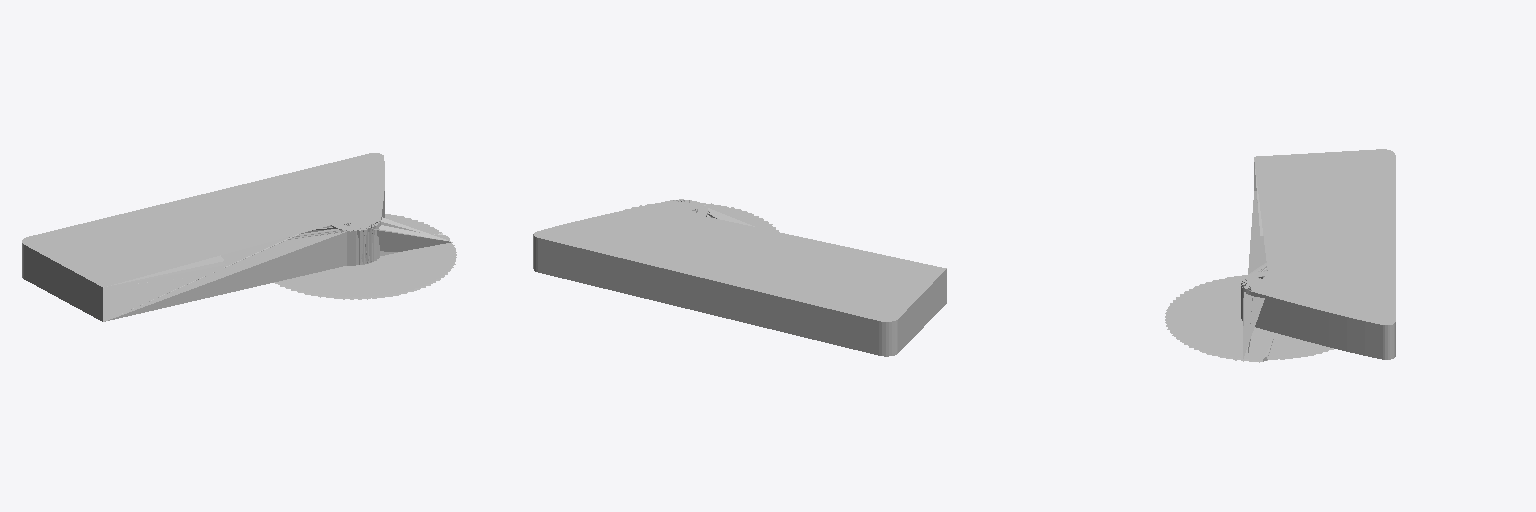
The model's file is VHS.Cassette.obj.
3 renders of one model, left to right at view 1: azimuth 30°, elevation 25°; view 2: azimuth 150°, elevation 25°; view 3: azimuth 270°, elevation 25°, orthographic.
Visible parts, largest first — view 1: Line01, Rectangle08, Rectangle07, Star02, Rectangle009, Line022, Star01, Rectangle02, Shape01; view 2: Line022, Rectangle009, Rectangle08, Line01, Rectangle07, Star02, Rectangle02, Shape01, Star01; view 3: Rectangle08, Rectangle07, Line022, Line01, Star02, Rectangle009, Star01, Rectangle02, Shape01.
Boxes of the visible parts, x1,y1,x2,y2 form: Line01: [22, 153, 384, 286]; Rectangle08: [22, 153, 384, 321]; Rectangle07: [23, 153, 450, 317]; Star02: [23, 153, 456, 299]; Rectangle009: [27, 153, 384, 286]; Line022: [22, 154, 384, 321]; Star01: [103, 223, 456, 297]; Rectangle02: [23, 153, 384, 321]; Shape01: [22, 155, 383, 285]; Line022: [533, 200, 946, 356]; Rectangle009: [536, 200, 945, 321]; Rectangle08: [535, 200, 944, 320]; Line01: [534, 201, 946, 318]; Rectangle07: [534, 200, 942, 321]; Star02: [538, 203, 927, 320]; Rectangle02: [545, 199, 928, 353]; Shape01: [534, 200, 943, 321]; Star01: [625, 199, 778, 231]; Rectangle08: [1243, 150, 1395, 324]; Rectangle07: [1241, 149, 1395, 359]; Line022: [1251, 162, 1395, 359]; Line01: [1254, 149, 1394, 324]; Star02: [1165, 150, 1395, 362]; Rectangle009: [1252, 149, 1395, 324]; Star01: [1165, 282, 1274, 359]; Rectangle02: [1241, 150, 1395, 324]; Shape01: [1241, 149, 1395, 320].
Size of the model in its own units: 175 by 17 by 96.73.